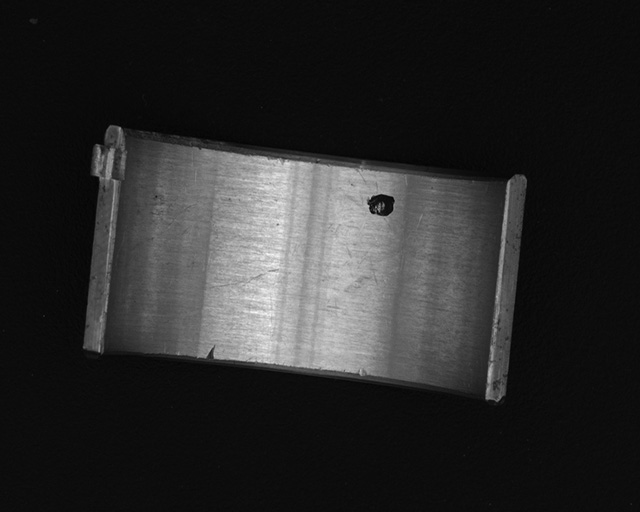blot: (342, 243, 402, 295), (366, 193, 396, 218)
bruise: (206, 344, 217, 360), (358, 369, 368, 378)
